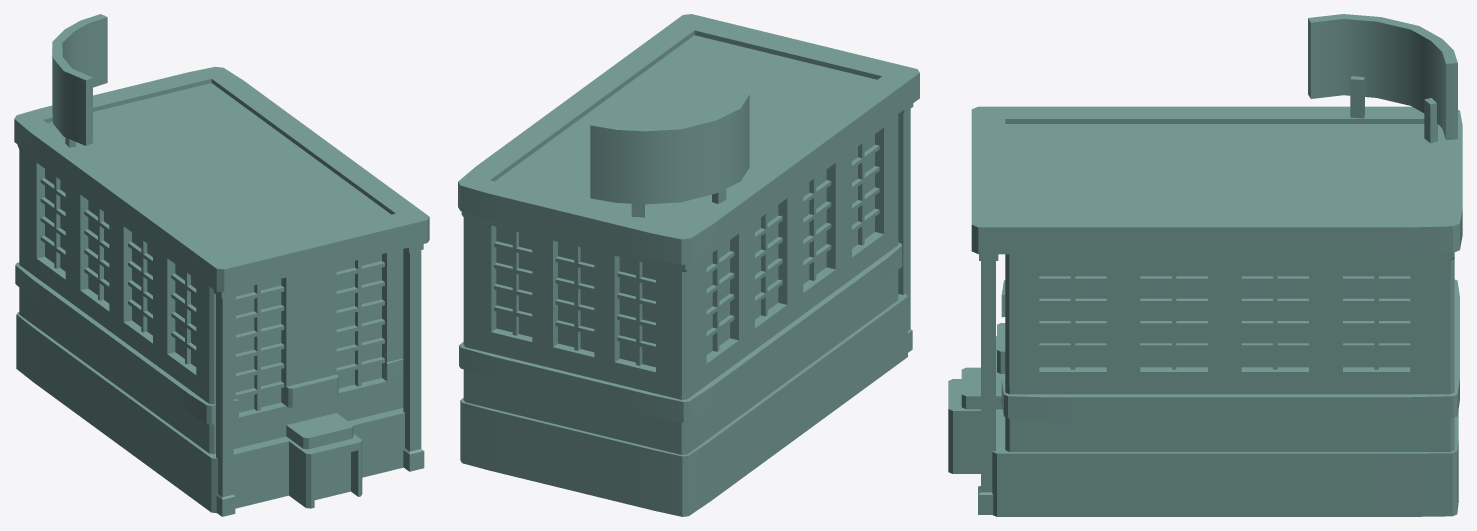
Rendered from building 16.fbx.
The picture shows the model from 3 angles, left to right: view 1: azimuth 30°, elevation 25°; view 2: azimuth 150°, elevation 25°; view 3: azimuth 270°, elevation 25°; orthographic projection. The views are drawn at different scales.
Visible parts, largest first — view 1: building 16; view 2: building 16; view 3: building 16.
Part boxes in pixels (<box>): building 16: <box>14,14,429,516</box>; building 16: <box>458,14,919,516</box>; building 16: <box>948,14,1462,516</box>.
Size of the model in its own units: 2320 by 3455 by 4170.
